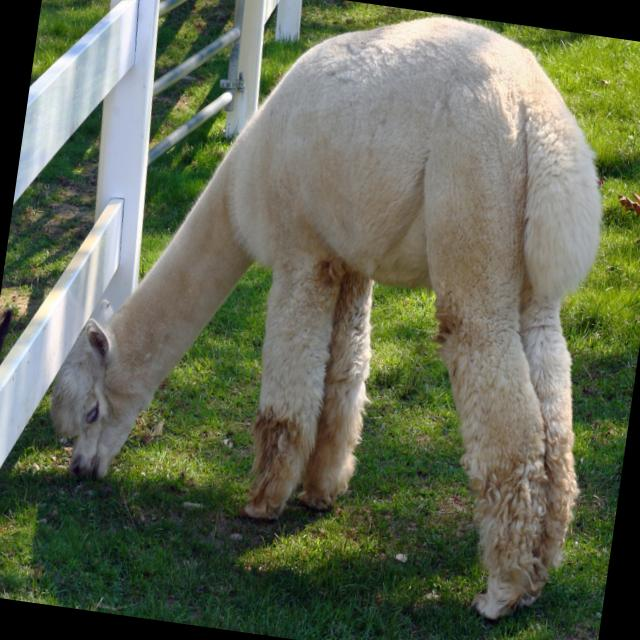alpaca: (54, 0, 637, 627)
